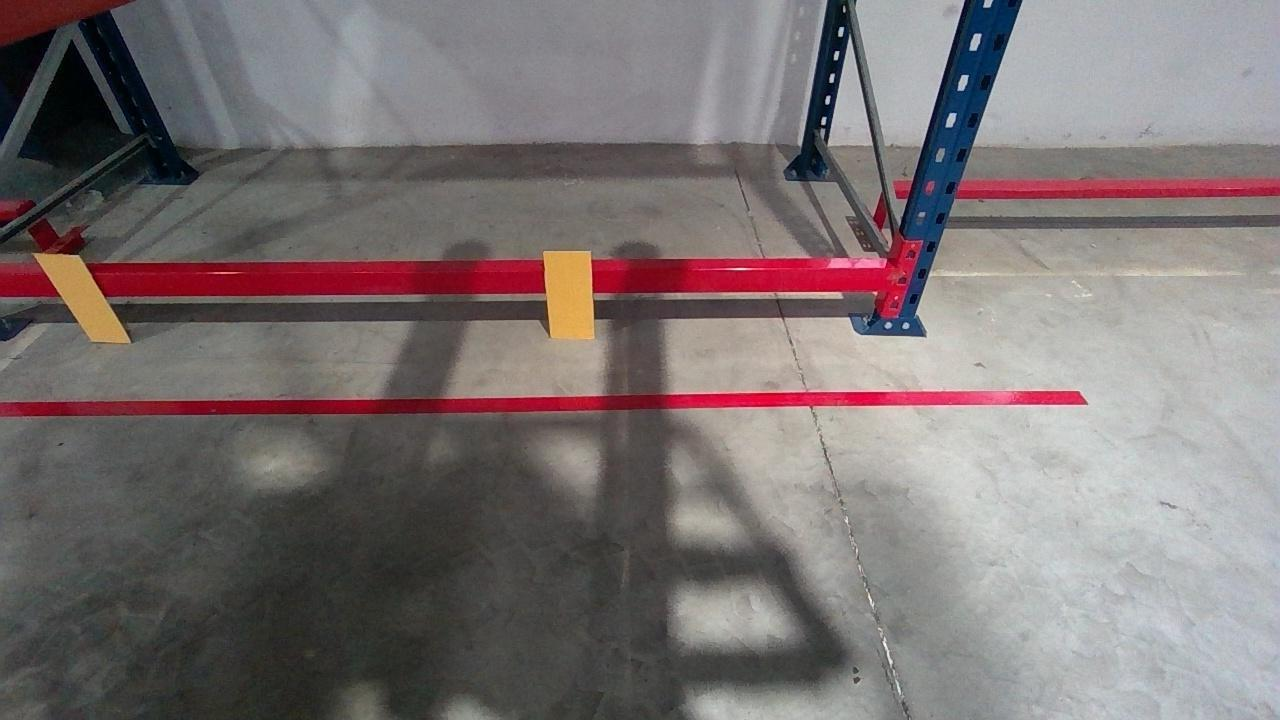h_rack: (0, 259, 892, 298)
orange_strip: (32, 257, 130, 343), (541, 249, 595, 337)
red_line: (2, 389, 1088, 416)
